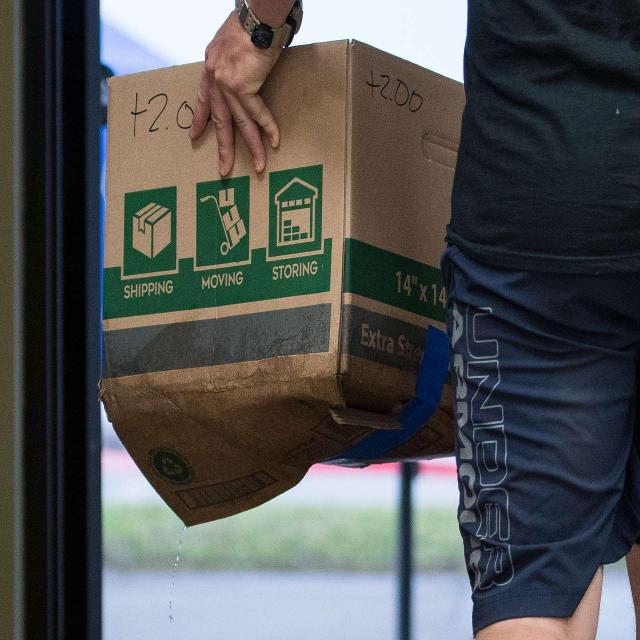wet: (121, 352, 375, 536)
